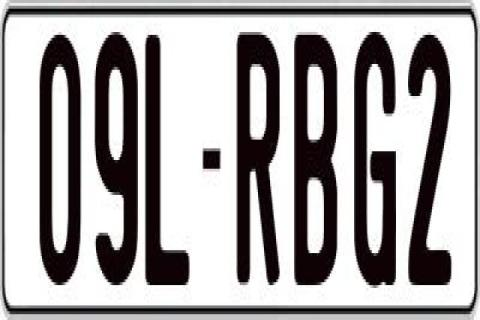0: (406, 32, 454, 291), (92, 26, 140, 282), (36, 35, 80, 294)
B: (292, 26, 340, 288)
G: (354, 29, 400, 294)
L: (144, 29, 194, 291)
R: (232, 27, 282, 297)
